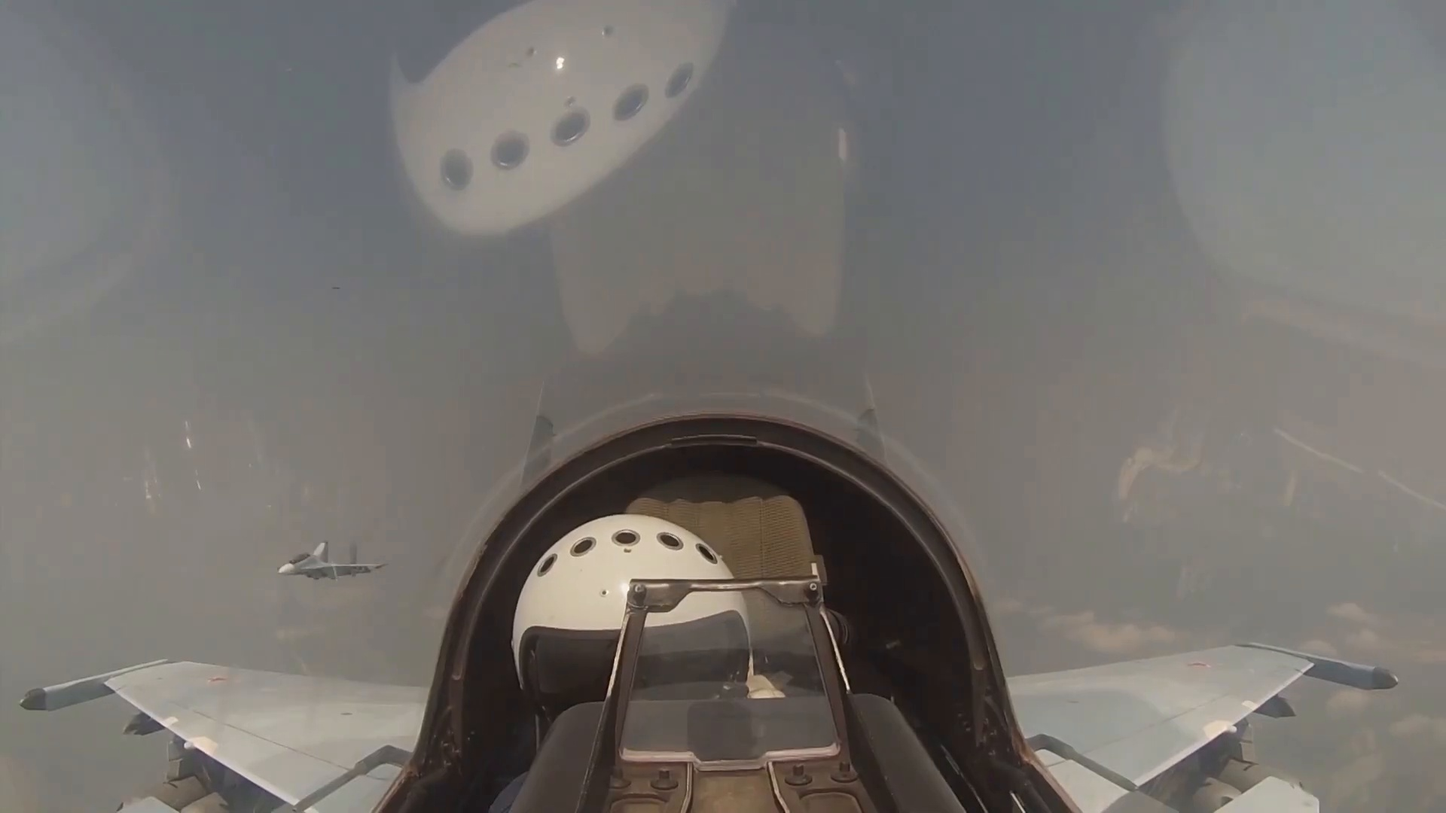Su35: (280, 538, 396, 582)
